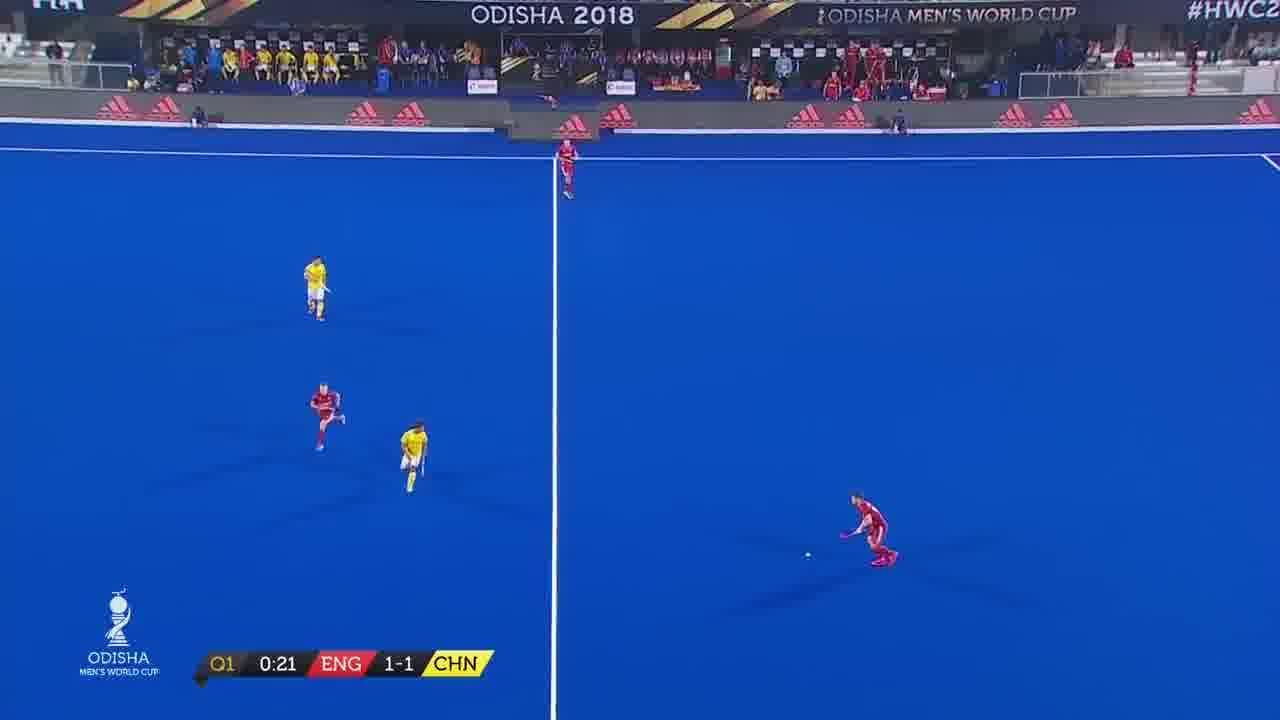ball: (802, 549, 816, 563)
